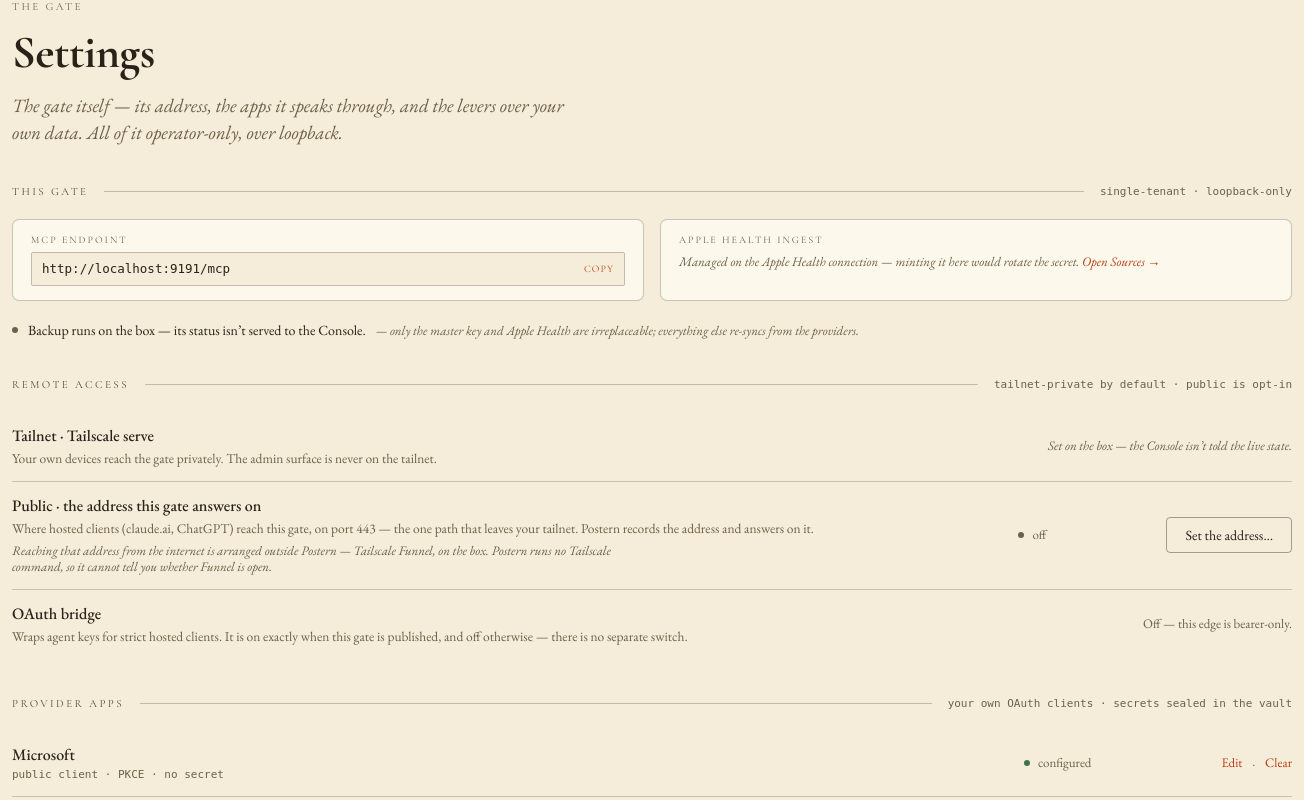
Remote access — the row's subject is the address, not the mechanism (#118) › the control's label is not retracted by its own success message
Click the button "Set the address…": coordinates (1229, 535) [1166,517,1292,553]
(page scrolled)
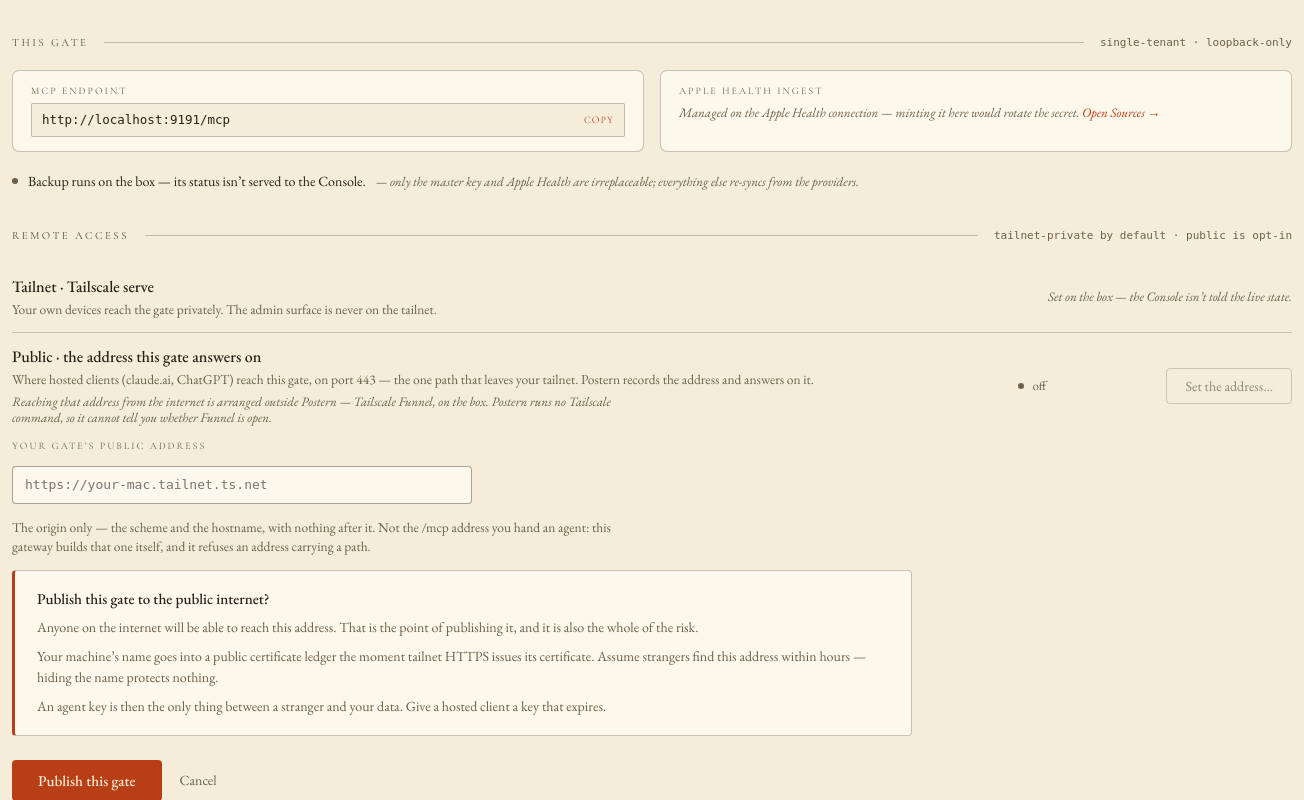
In the field with placeholder "https://your-mac.tailnet.ts.net": coordinates (242, 485) [12,466,472,504], type "https://live.example.ts.net"
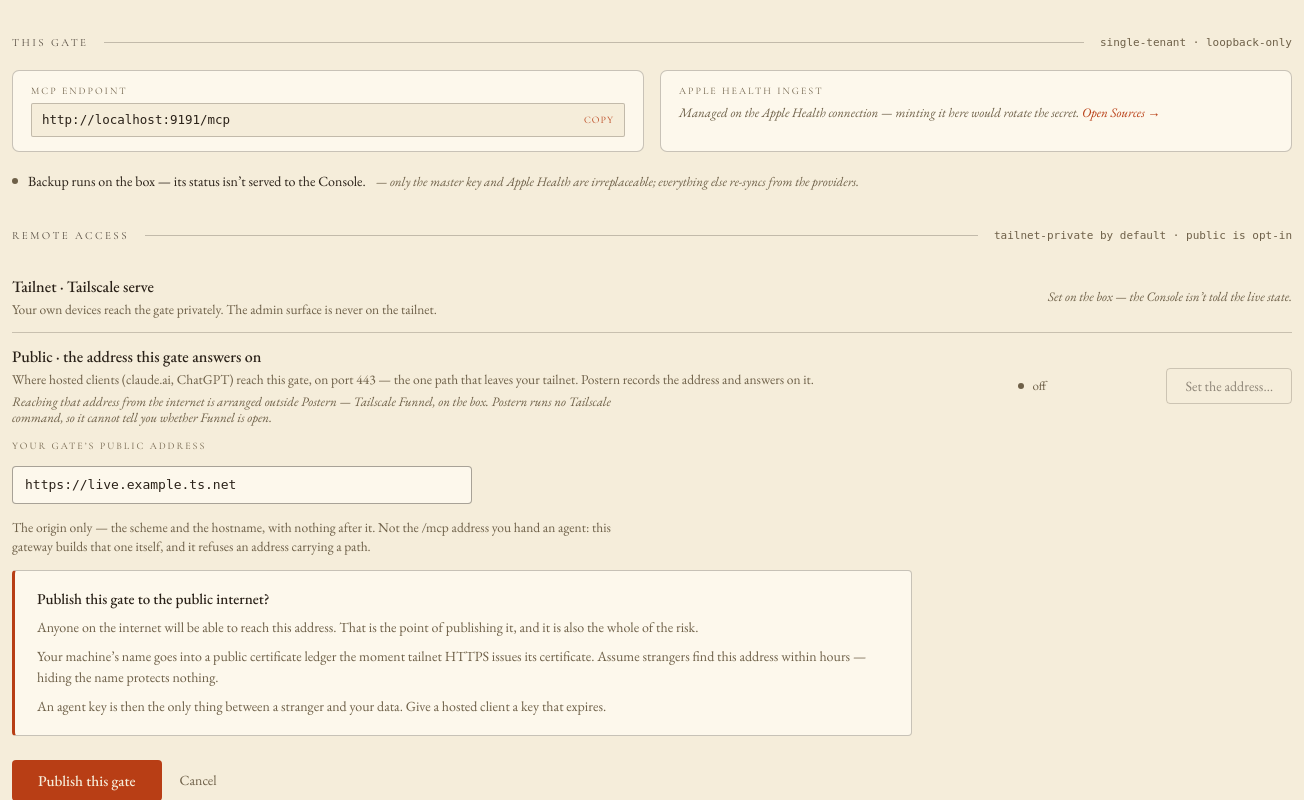
Click the button "Publish this gate": coordinates (87, 780) [12,760,162,799]
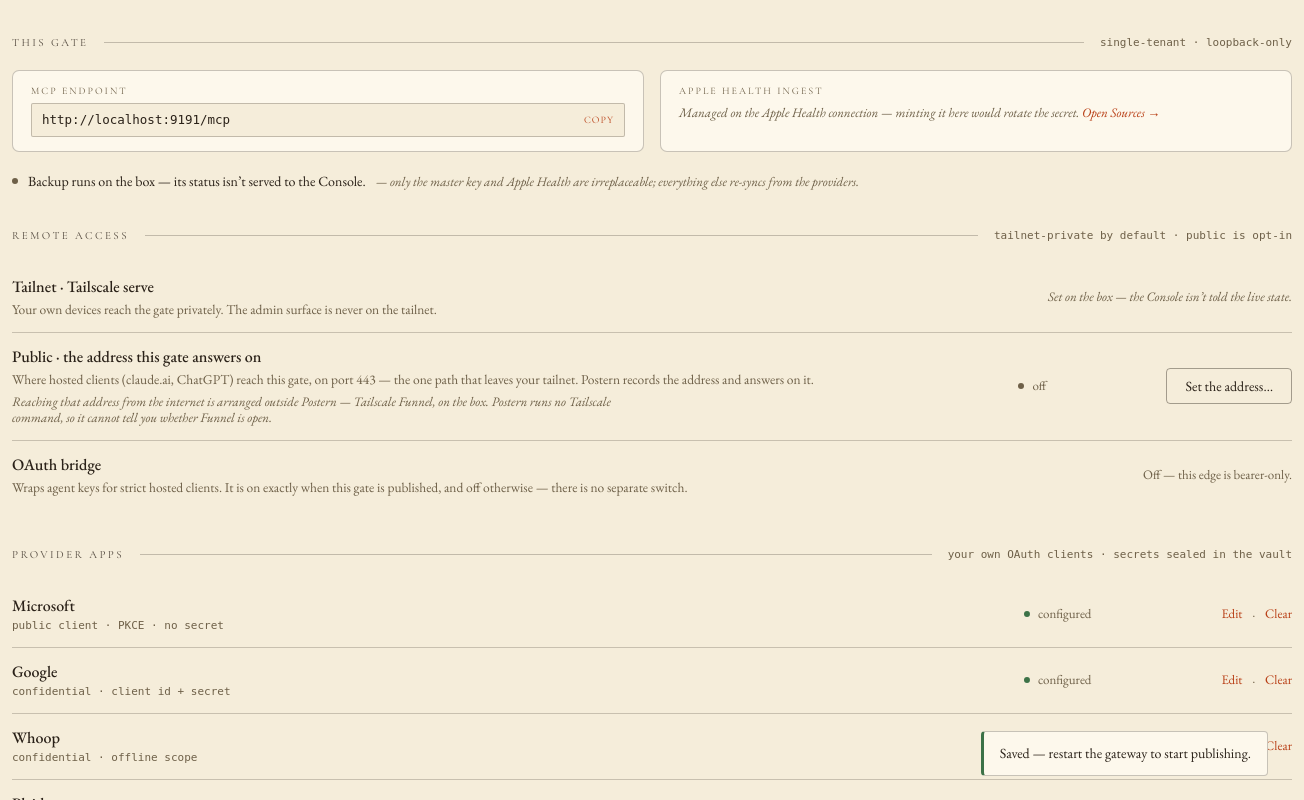
Check: the button "Set the address…" is shown, box [1166,368,1292,404]
Check: the text "Saved — restart the gateway to start publishing." is shown, box [981,731,1268,776]
